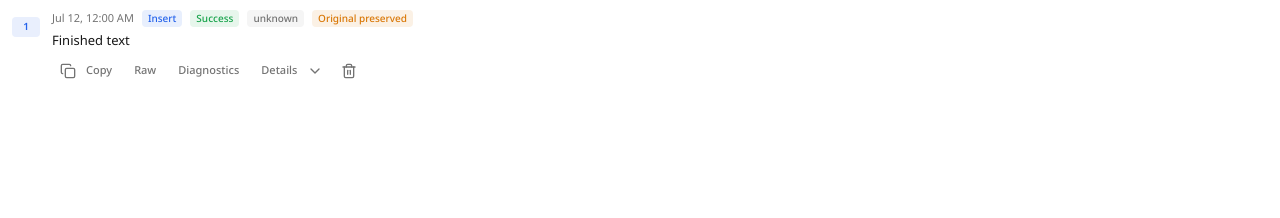
Test: TranscriptionItem › labels a rejected safety retry without implying cleanup was applied
What coordinates should you click on to do the following:
click the button "Details"
I would click on:
 (292, 70)
Its box is [253,58,332,82].
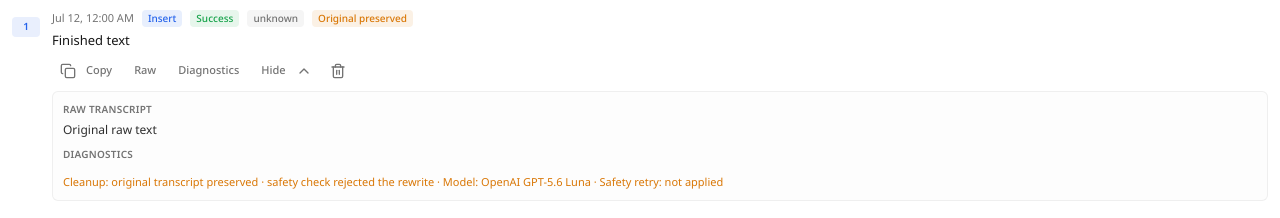
Expected: the text "Cleanup: original transcript preserved" does not show "Retry model: OpenAI GPT-5.6 Sol", [63,174,723,188]
Expected: the text "Cleanup: original transcript preserved" shows "Safety retry: not applied", [591,174,723,188]
